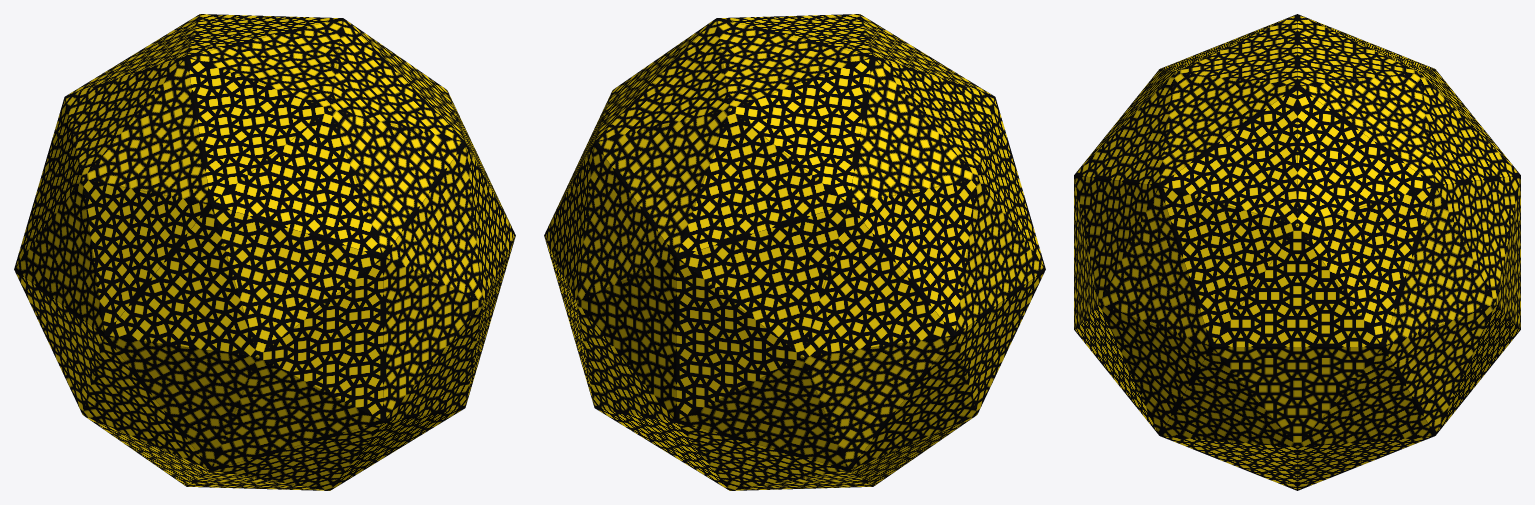
Rendered from pentakis-dodecahedron.gltf.
3 renders of one model, left to right at view 1: azimuth 30°, elevation 25°; view 2: azimuth 150°, elevation 25°; view 3: azimuth 270°, elevation 25°, orthographic. The views are drawn at different scales.
Visible parts, largest first — view 1: Pentakisdodeca; view 2: Pentakisdodeca; view 3: Pentakisdodeca.
Part boxes in pixels (x1,y1,x2,y2): Pentakisdodeca: (14, 14, 515, 490); Pentakisdodeca: (544, 14, 1045, 490); Pentakisdodeca: (1074, 14, 1520, 490).
Size of the model in its own units: 9.79 by 9.79 by 9.79.
Materials: 1 (1 with a texture image).
